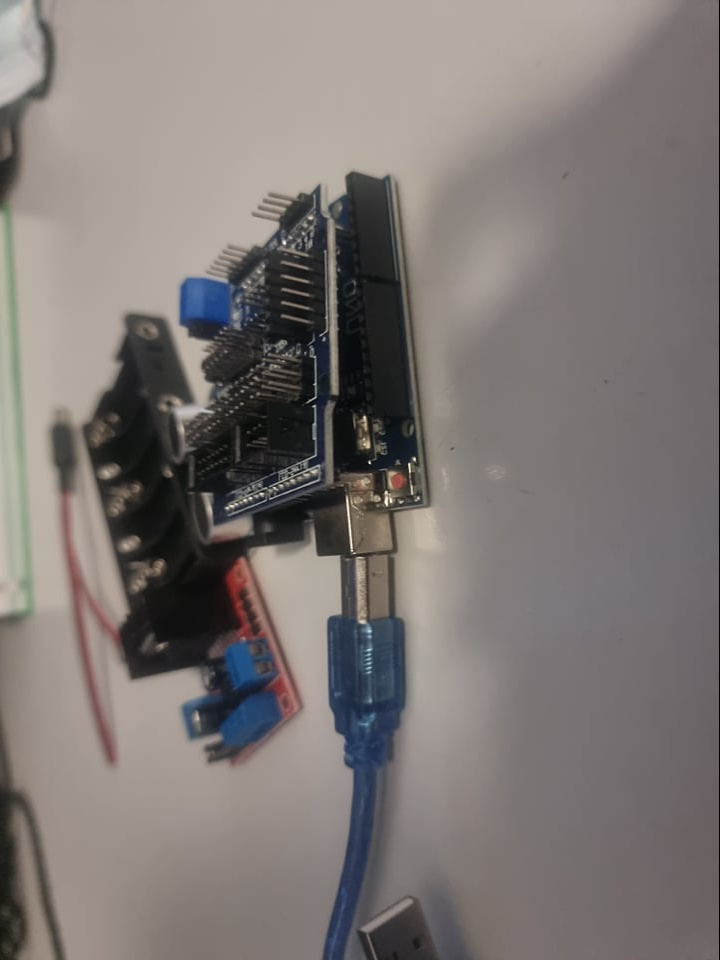5V EXPANSION: (163, 180, 324, 519)
BATTERY BOX: (58, 303, 195, 588)
MOTOR: (109, 554, 303, 773)
UNO R3: (329, 171, 434, 571)
